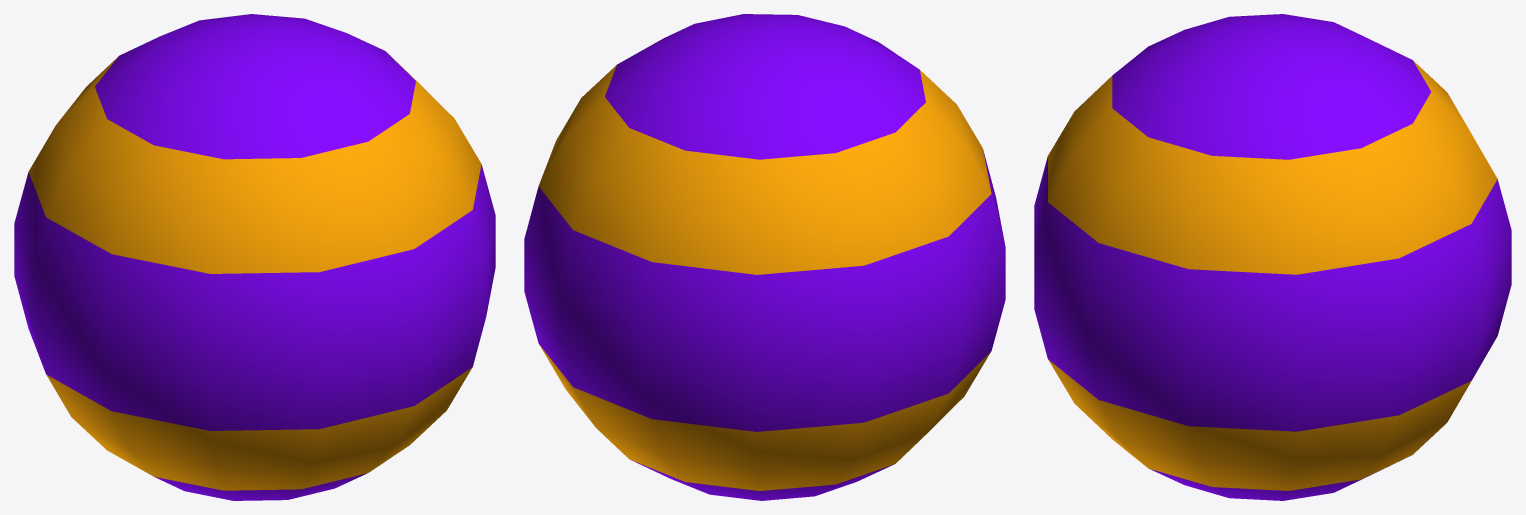
File: D_Ball12_09.fbx
The picture shows the model from 3 angles, left to right: view 1: azimuth 30°, elevation 25°; view 2: azimuth 150°, elevation 25°; view 3: azimuth 270°, elevation 25°; orthographic projection.
Parts seen in each view (by area): view 1: D_Ball12_09; view 2: D_Ball12_09; view 3: D_Ball12_09.
Part boxes in pixels (bbox=[...]): D_Ball12_09: bbox=[14, 14, 495, 500]; D_Ball12_09: bbox=[524, 14, 1005, 500]; D_Ball12_09: bbox=[1034, 14, 1511, 500].
Size of the model in its own units: 0.9798 by 0.9943 by 0.9727.
